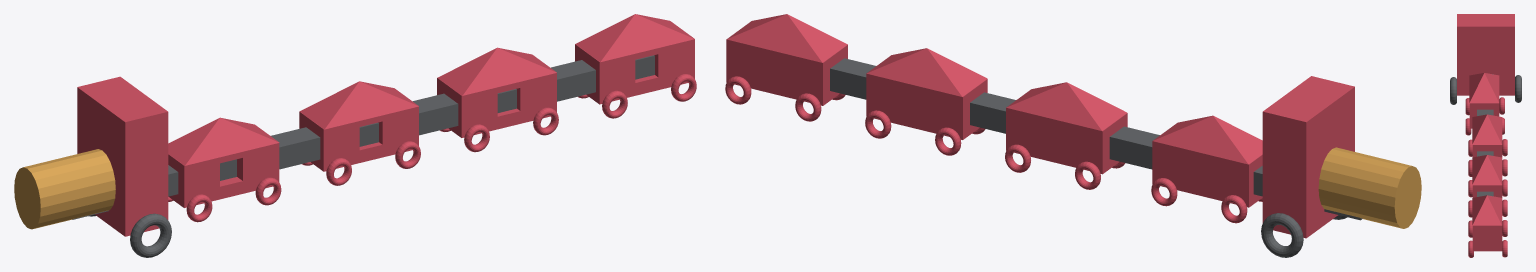
File: Project 150.glb
3 views of the same model, side by side, from view 1: azimuth 30°, elevation 25°; view 2: azimuth 150°, elevation 25°; view 3: azimuth 270°, elevation 25° (orthographic). The views are drawn at different scales.
Visible parts, largest first — view 1: Mesh_Mesh_head_geo.001_lambert2SG.001; view 2: Mesh_Mesh_head_geo.001_lambert2SG.001; view 3: Mesh_Mesh_head_geo.001_lambert2SG.001.
Boxes of the visible parts, bbox=[...] form: Mesh_Mesh_head_geo.001_lambert2SG.001: bbox=[14, 14, 696, 257]; Mesh_Mesh_head_geo.001_lambert2SG.001: bbox=[725, 14, 1421, 257]; Mesh_Mesh_head_geo.001_lambert2SG.001: bbox=[1450, 14, 1521, 257].
Bounding box in the file's own units: 324 × 65.13 × 51.
